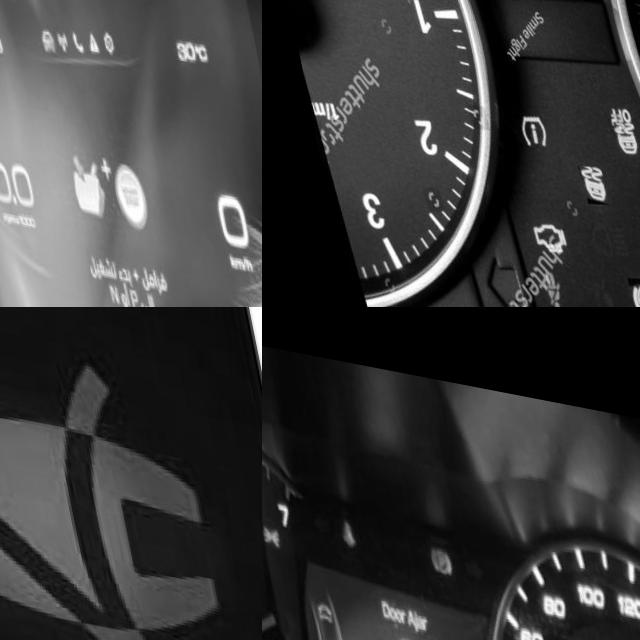Seat Belt: (0, 307, 218, 640), (328, 503, 353, 541)
